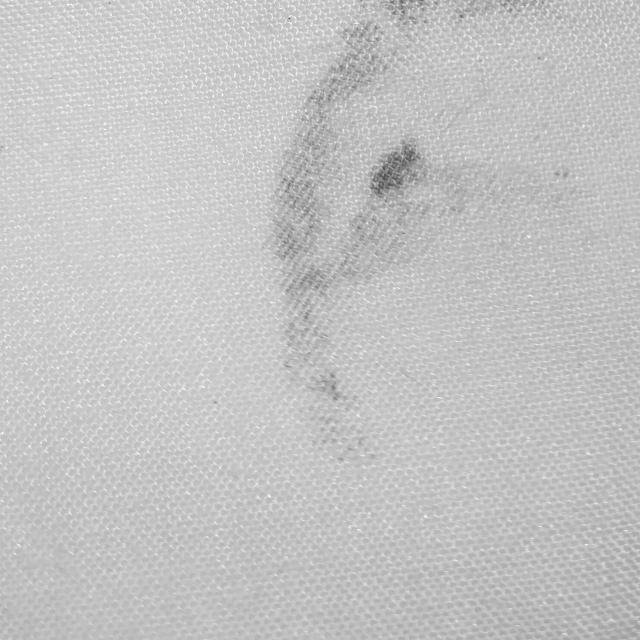Stain: (277, 0, 585, 463)
